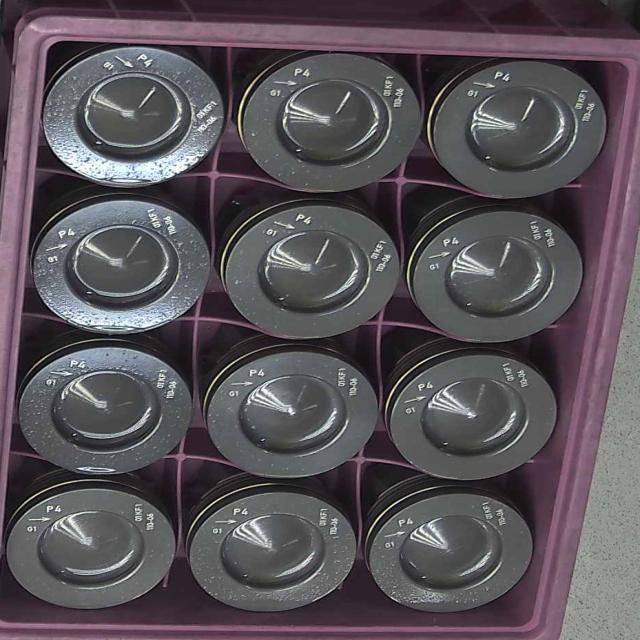P4: (236, 36, 424, 192), (437, 47, 612, 205), (57, 32, 219, 179), (188, 484, 360, 622), (418, 210, 580, 356), (43, 194, 201, 343), (226, 205, 406, 334), (7, 480, 176, 616), (372, 486, 534, 622), (207, 352, 382, 477), (20, 346, 184, 466), (396, 362, 554, 481)
